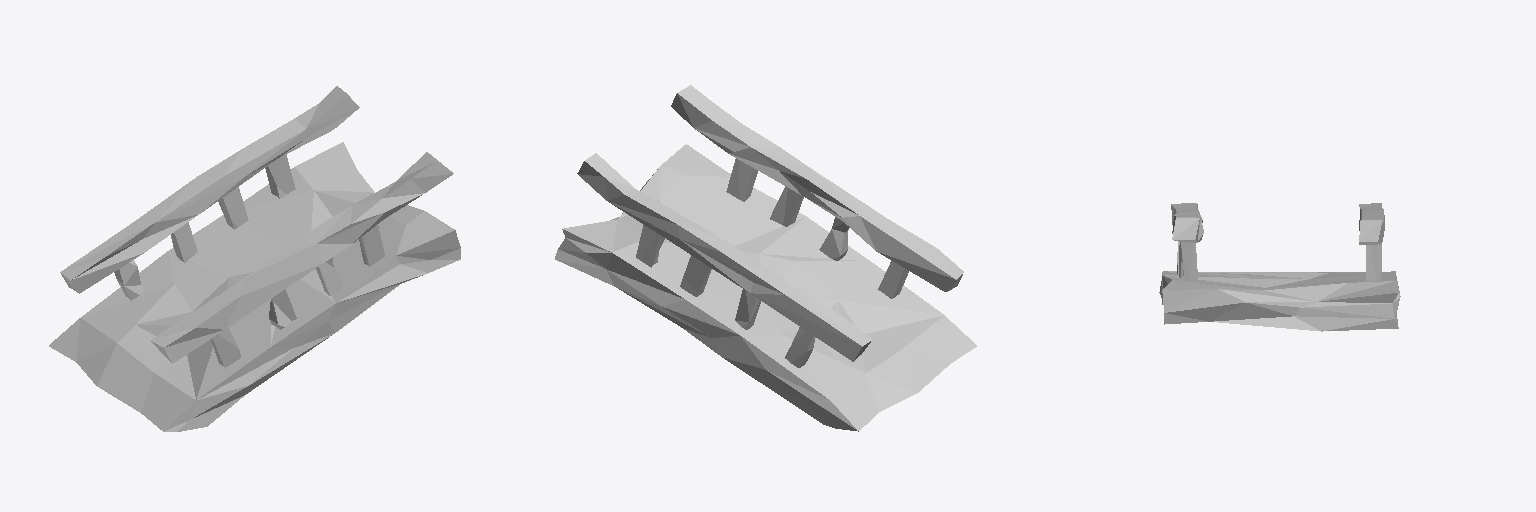
Rendered from Ponte quebrada 3.obj.
3 views of the same model, side by side, from view 1: azimuth 30°, elevation 25°; view 2: azimuth 150°, elevation 25°; view 3: azimuth 270°, elevation 25° (orthographic).
Parts seen in each view (by area): view 1: Ponte.000_Cube.022; view 2: Ponte.000_Cube.022; view 3: Ponte.000_Cube.022.
Part boxes in pixels (bbox=[...]): Ponte.000_Cube.022: bbox=[49, 86, 460, 431]; Ponte.000_Cube.022: bbox=[555, 85, 976, 431]; Ponte.000_Cube.022: bbox=[1159, 203, 1400, 331].
Bounding box in the file's own units: 6.08 × 3.83 × 4.11.